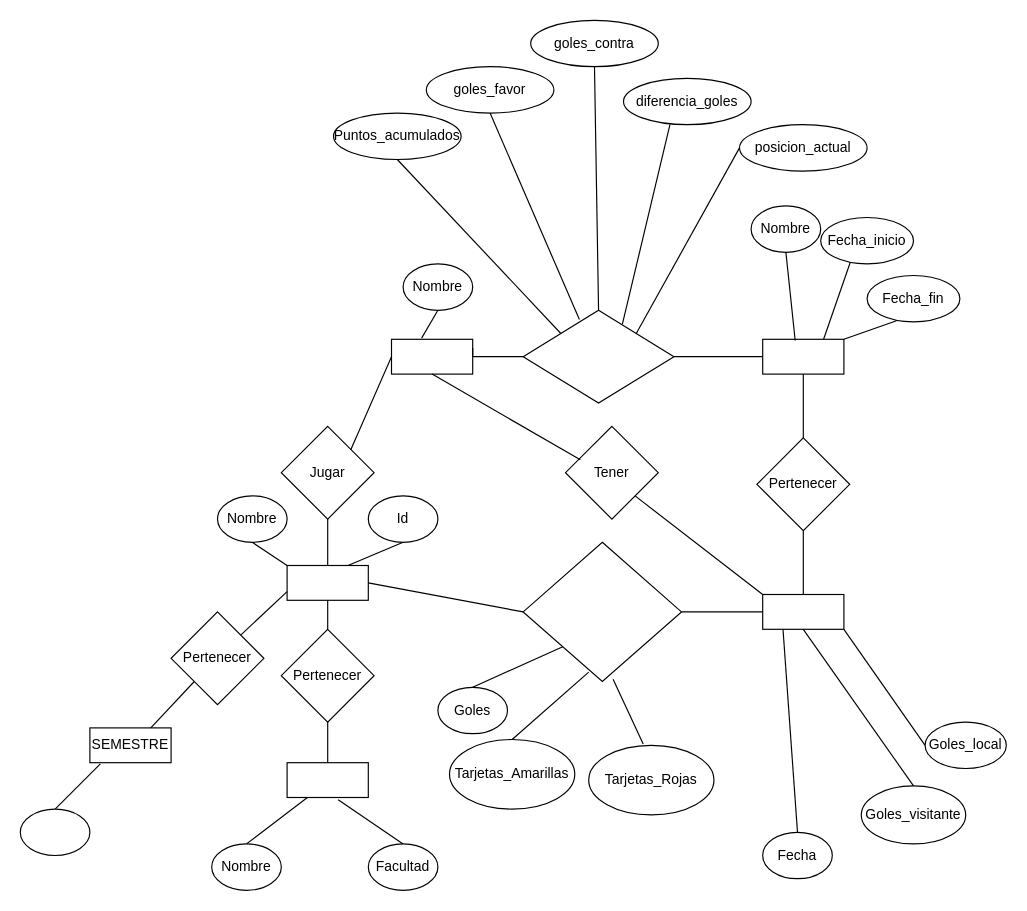
Image size: 1027x911. Some labels were removed from this diagram. Here are the shapes that lost their labels. From the top down, the centre of each, then its label:
At pixel 431 356: "EQUIPO".
At pixel 598 356: "Participacion_equipo".
At pixel 803 356: "TORNEO".
At pixel 327 582: "JUGADOR".
At pixel 602 611: "Estadistica_Jugador _Partido".
At pixel 803 611: "PARTIDO".
At pixel 327 780: "PROGRAMA".
At pixel 54 831: "Numero".
